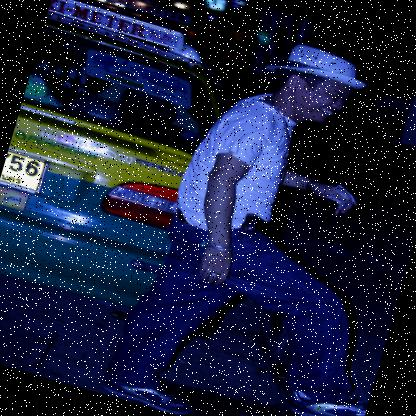Car: (0, 0, 294, 343)
